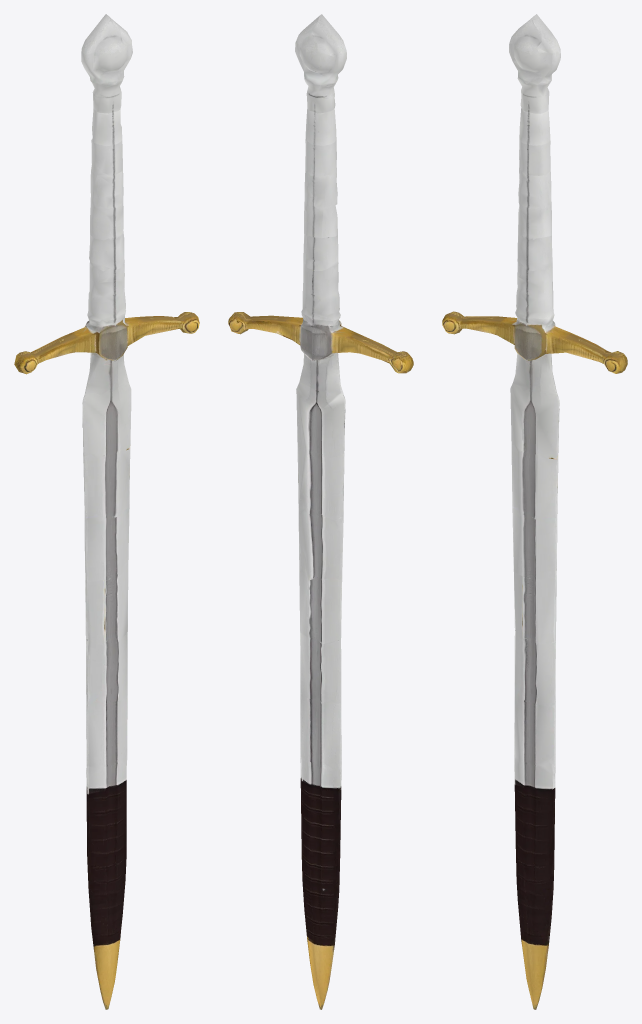
Rendered from spatha_ornate.glb.
The picture shows the model from 3 angles, left to right: view 1: azimuth 30°, elevation 25°; view 2: azimuth 150°, elevation 25°; view 3: azimuth 330°, elevation 25°; orthographic projection.
Bounding box in the file's own units: 0.3628 × 1.9 × 0.0632.
1 material, 1 textured.
